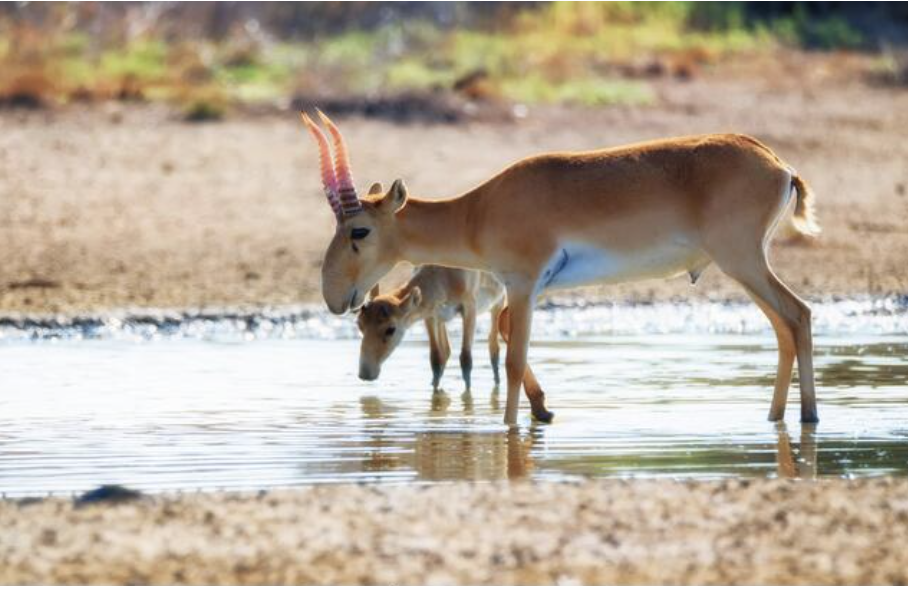saiga: (293, 95, 852, 440)
